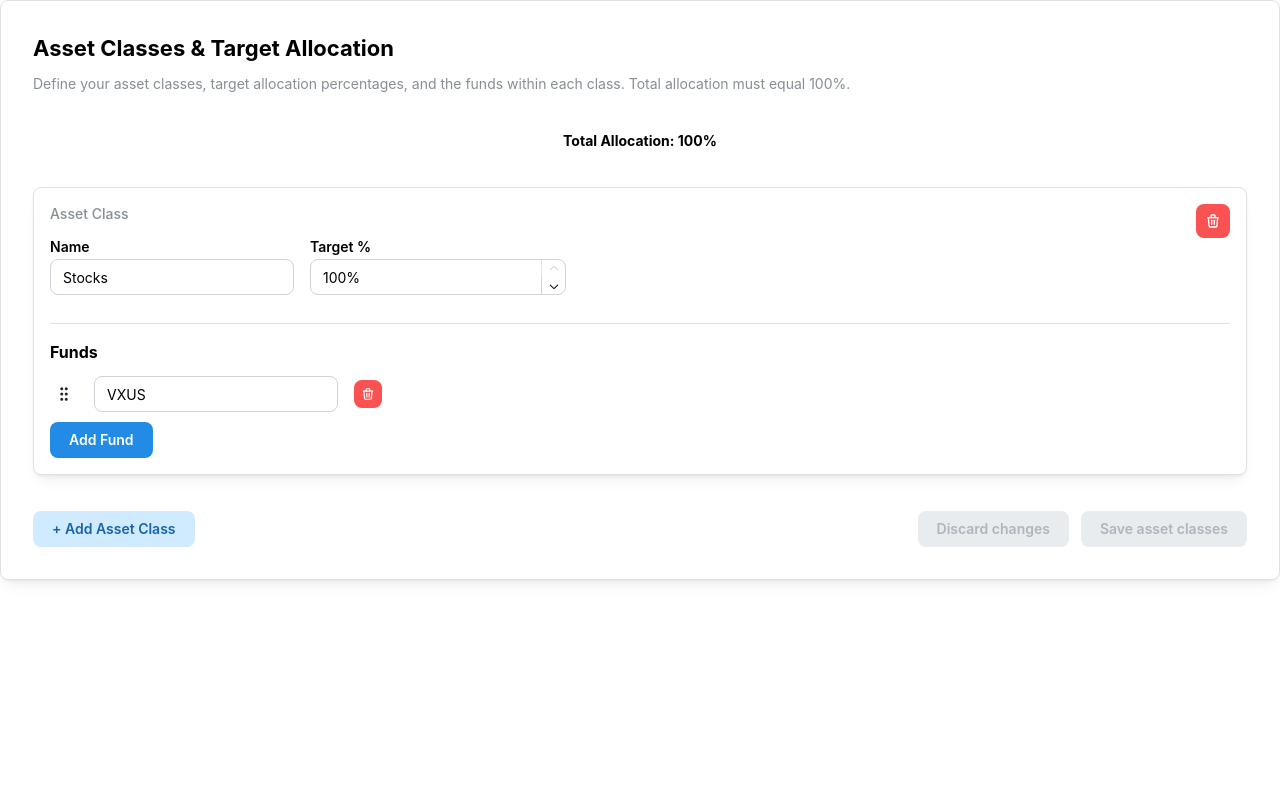
AssetClassSettings › requires a share fund's ticker to be a single symbol
Replace the text in the field named "Ticker" with "VXUS / VEU" at (216, 394), box [94, 376, 338, 412]
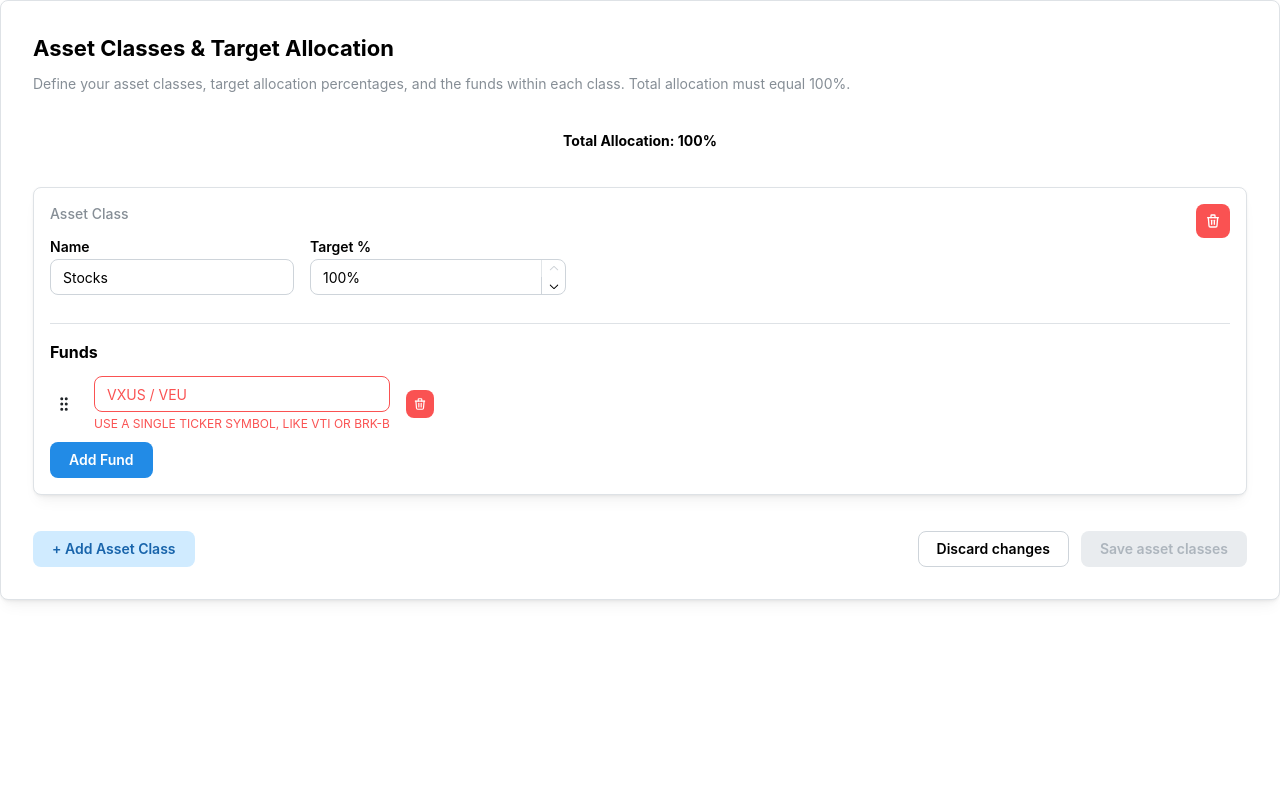
Check: the button "Save asset classes" is disabled, box [1081, 531, 1247, 567]
Check: the text "Use a single ticker symbol, like VTI or BRK-B" is shown, box [94, 417, 390, 432]
